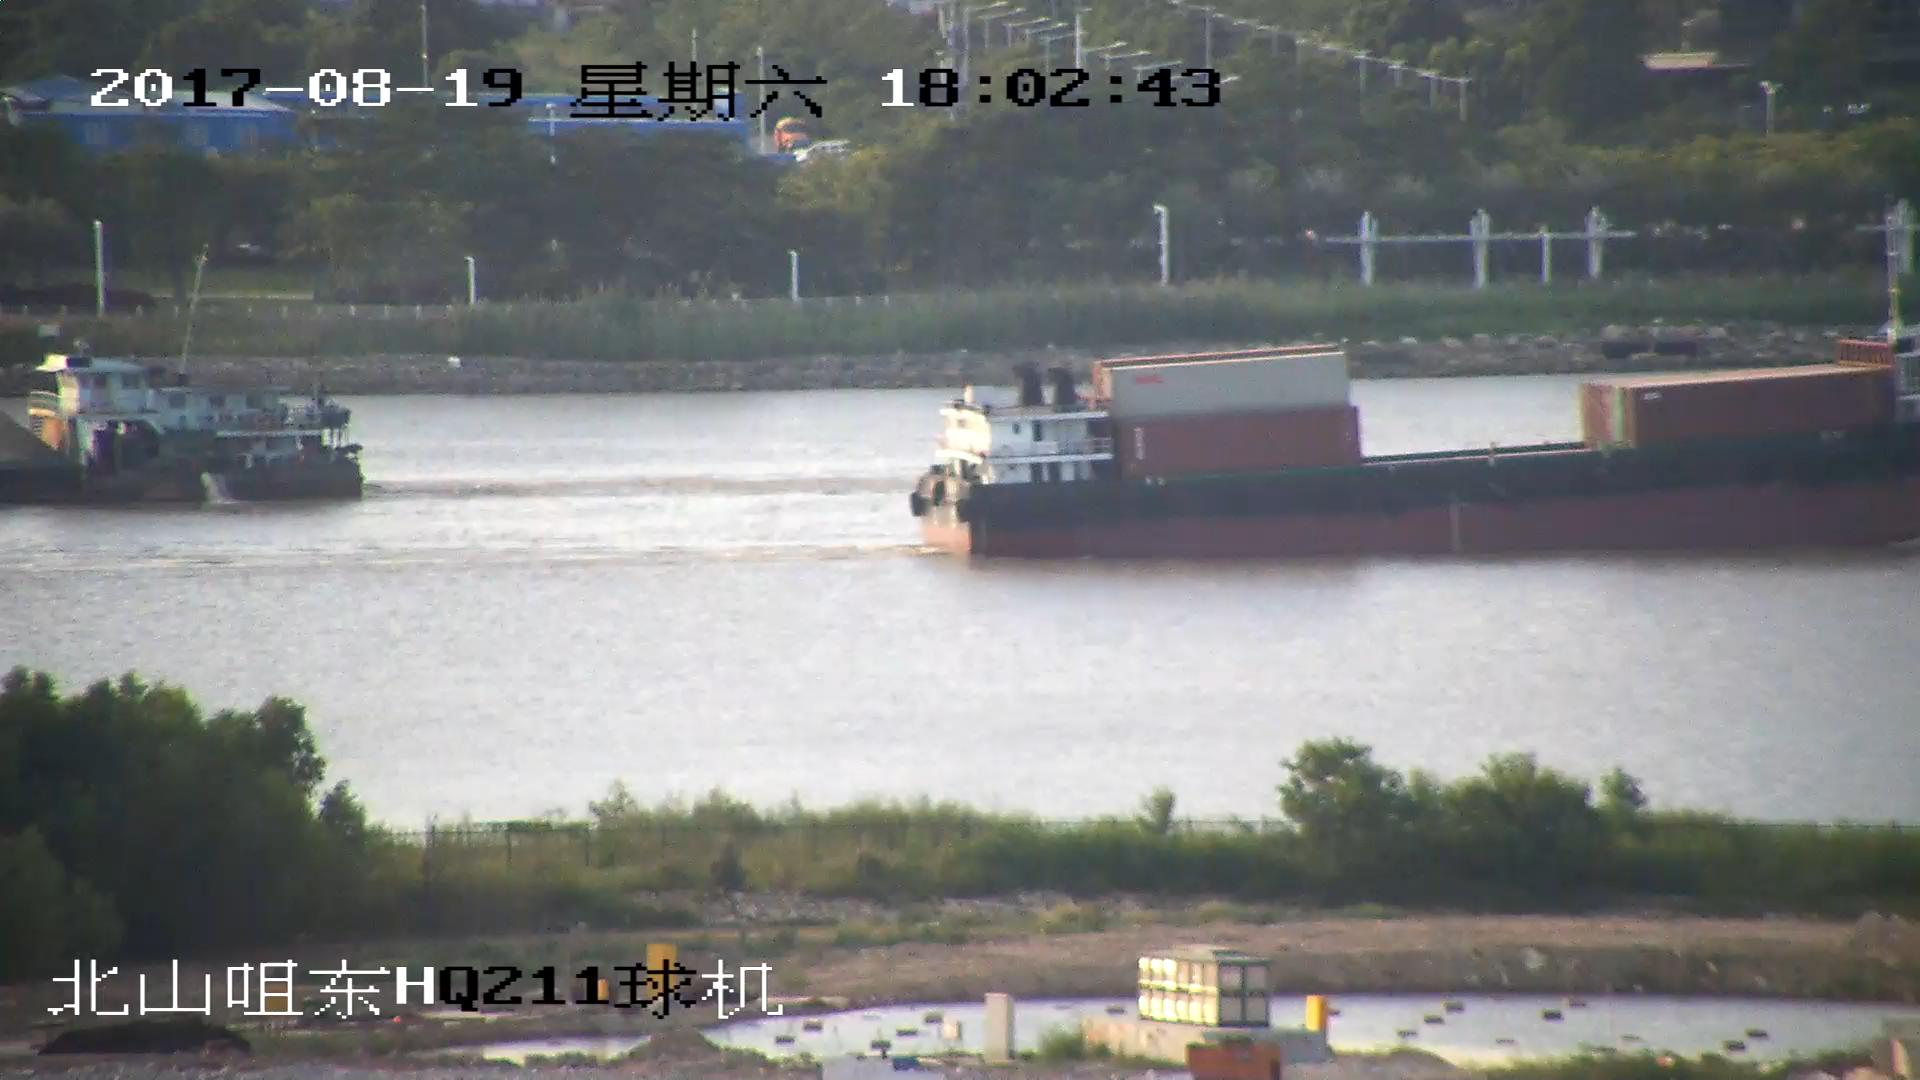container ship: (908, 341, 1920, 558)
ore carrier: (1, 350, 365, 507)
